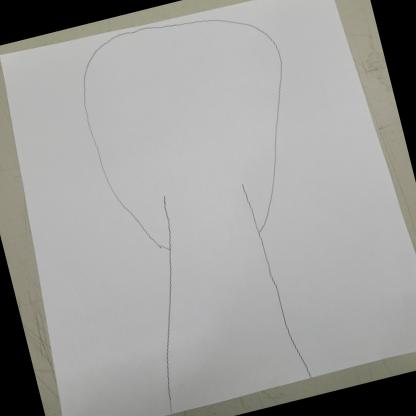crown_mushroom: (67, 0, 323, 268)
trunk_straight: (138, 238, 306, 384)
